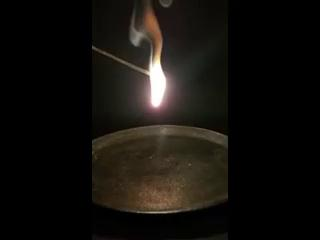Fire: (138, 13, 171, 107)
